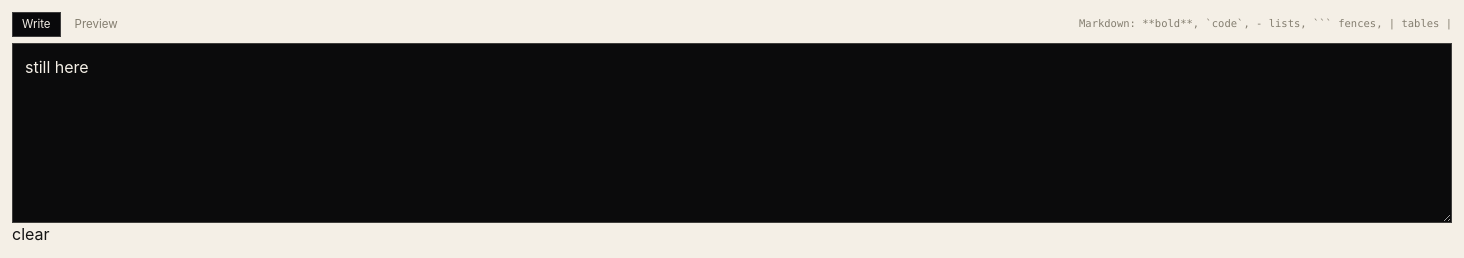
it: BodyComposer › keeps the preview while the text is there
Click the tab "Preview": click(96, 24) [64, 12, 128, 37]
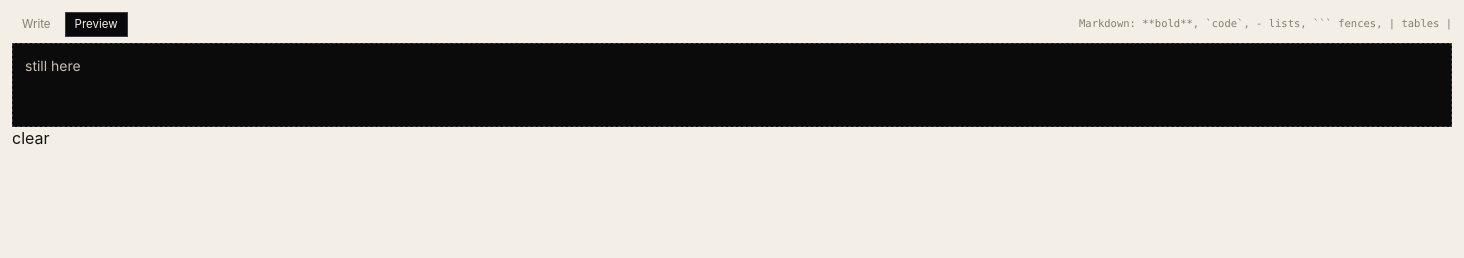
expect the text "still here" is shown: met, box [25, 58, 81, 75]
expect the text box labelled "Comment" is gone: met
